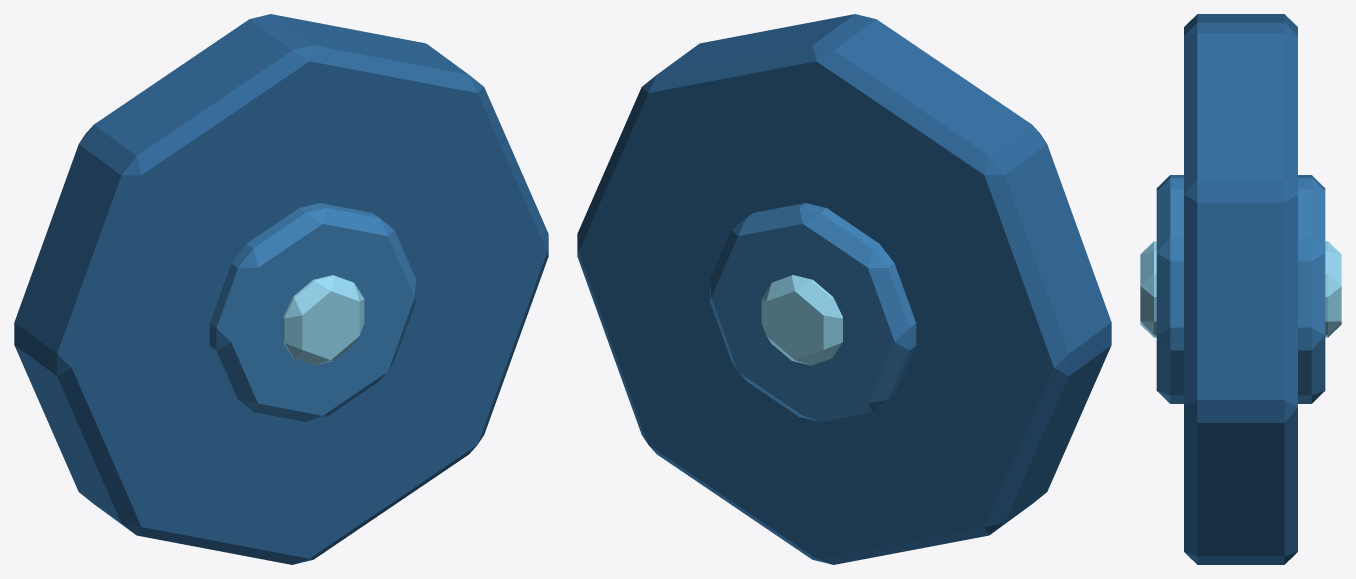
The model's file is cannon_wheel.glb.
The picture shows the model from 3 angles, left to right: view 1: azimuth 30°, elevation 25°; view 2: azimuth 150°, elevation 25°; view 3: azimuth 270°, elevation 25°; orthographic projection.
Visible parts, largest first — view 1: cannon_wheel; view 2: cannon_wheel; view 3: cannon_wheel.
Part boxes in pixels (x1,y1,x2,y2): cannon_wheel: (14, 14, 548, 564); cannon_wheel: (577, 14, 1111, 564); cannon_wheel: (1140, 14, 1341, 564).
Size of the model in its own units: 0.2122 by 0.2122 by 0.074.
